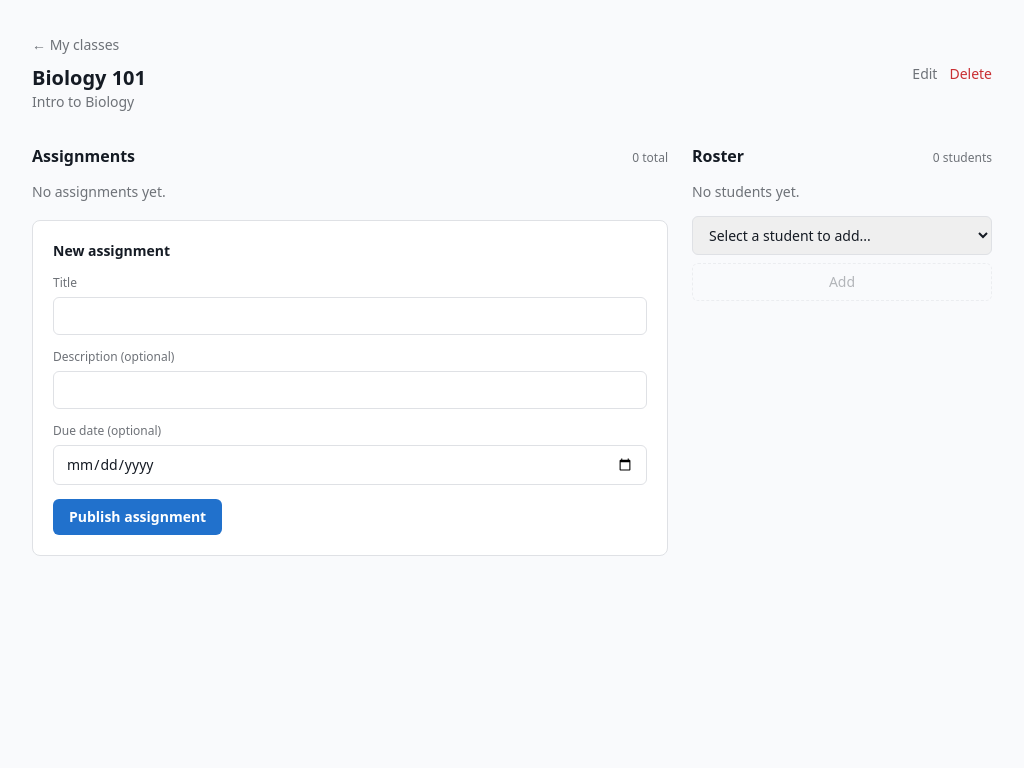
Test case: ClassDetailPage › shows a generic error when adding a student throws a non-API error
Expected: the text "No students yet." is shown, x1=692 y1=182 x2=800 y2=201
Select "Sam Student (sam@example.com)" in the dropdown at {"x": 842, "y": 236}, box x1=692 y1=216 x2=992 y2=255
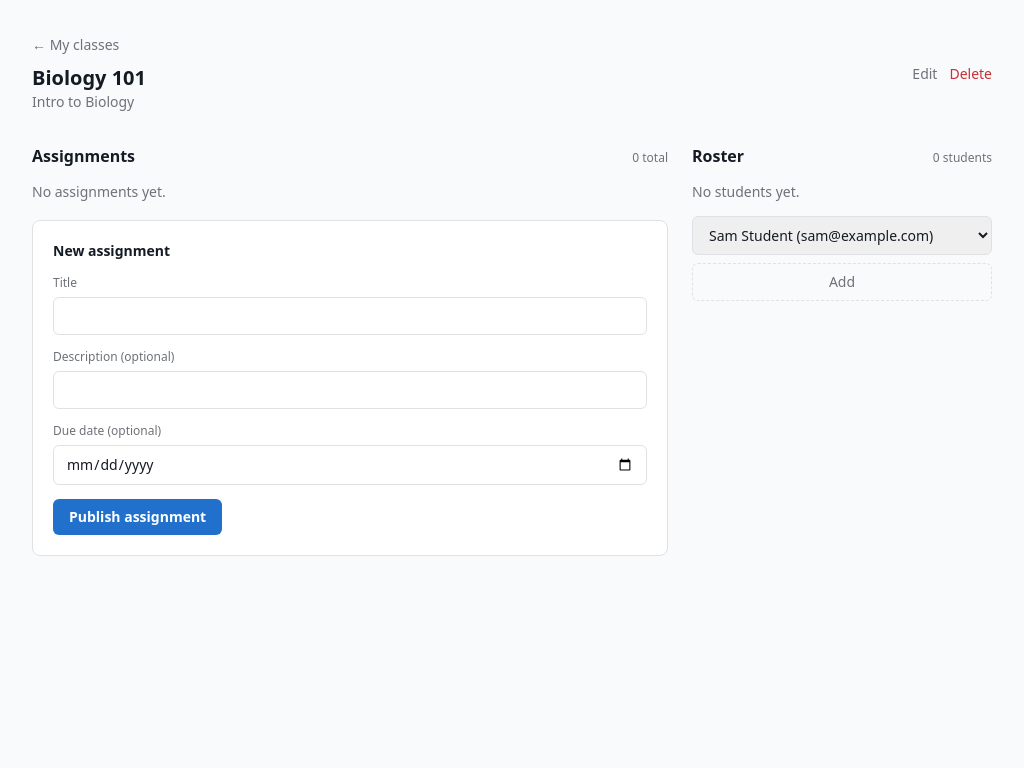
Click the button "Add".
click(842, 282)  # box x1=692 y1=263 x2=992 y2=301
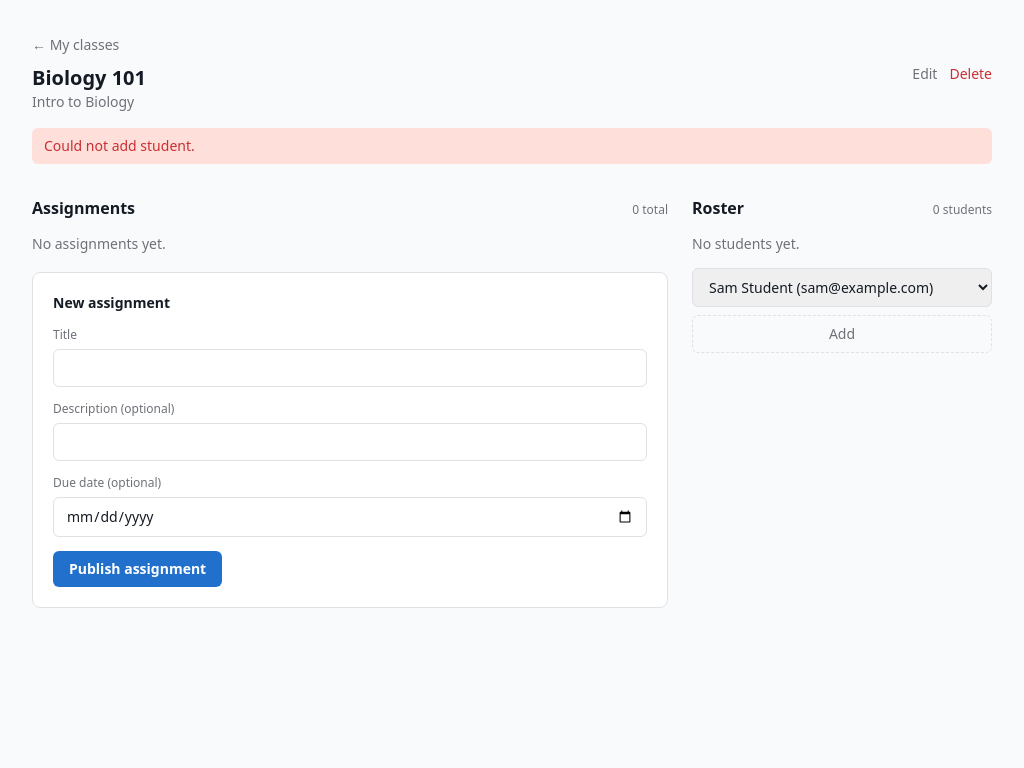
Now the message shows "Could not add student", box x1=44 y1=136 x2=195 y2=155
